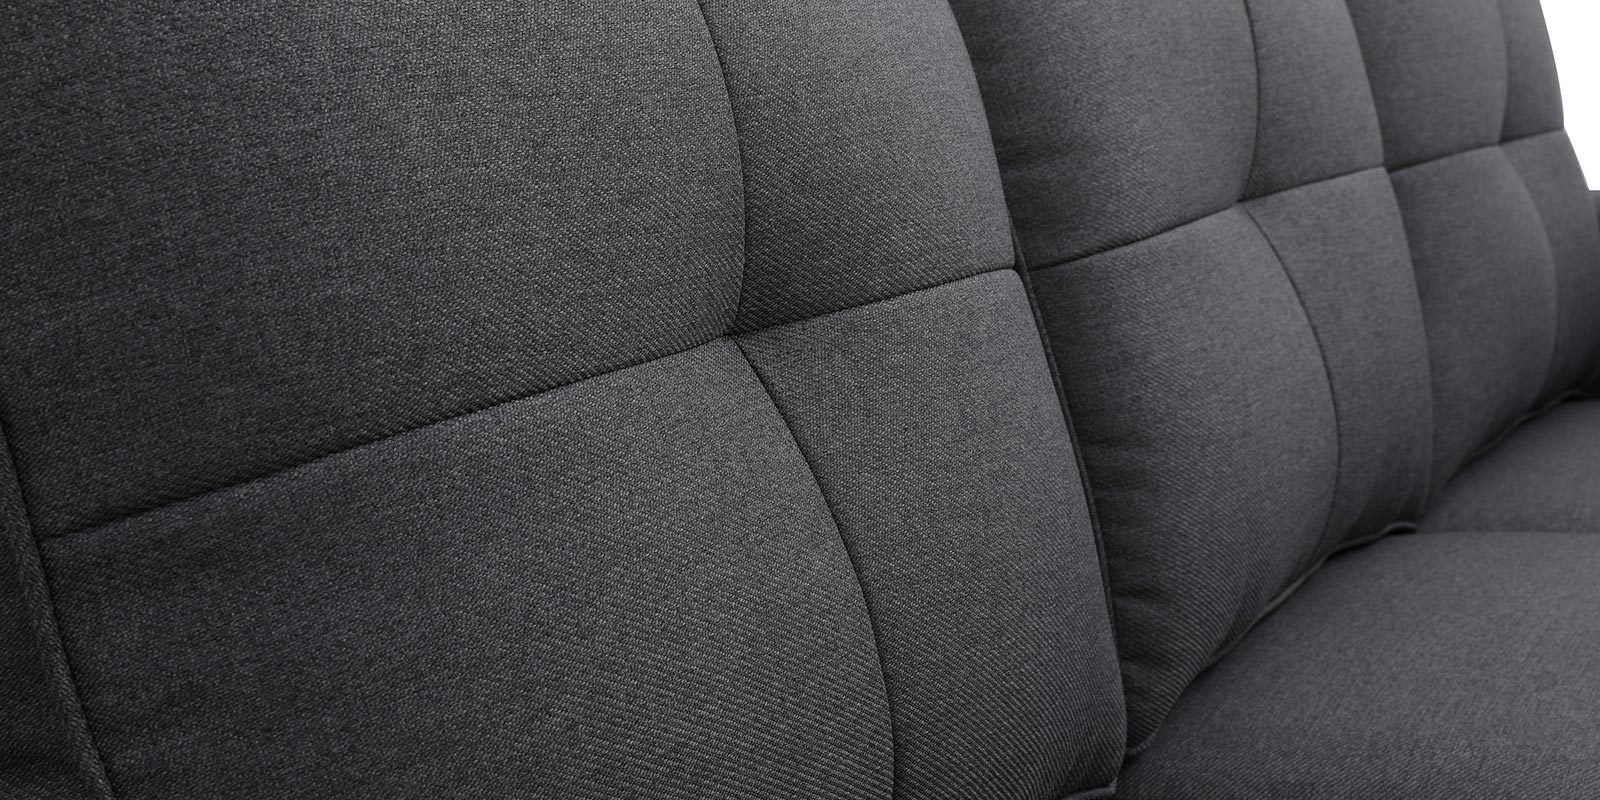Alice Three Seater Sofa in Grey Colour by Zofa: (13, 23, 1600, 776)
